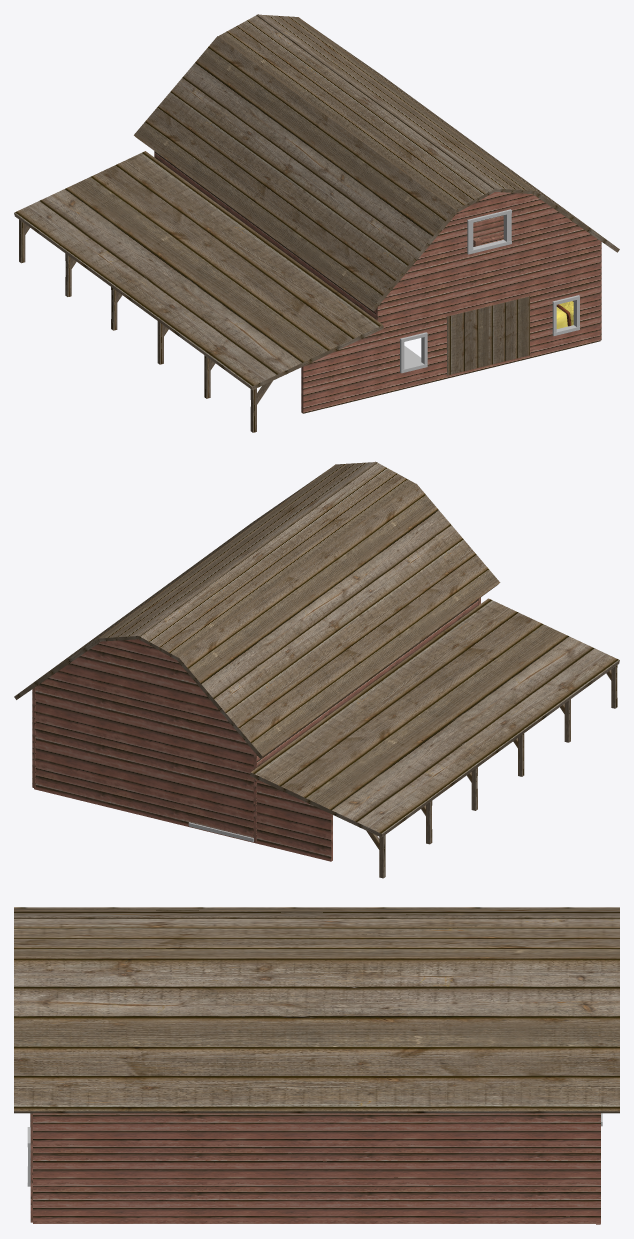
File: barn_scaled.fbx
3 views of the same model, one above another, from view 1: azimuth 30°, elevation 25°; view 2: azimuth 150°, elevation 25°; view 3: azimuth 270°, elevation 25° (orthographic). The views are drawn at different scales.
Visible parts, largest first — view 1: walls, entrance_left, entrance_right; view 2: walls; view 3: walls.
Part boxes in pixels (x1,y1,x2,y2): walls: (14, 14, 619, 432); entrance_left: (447, 306, 488, 375); entrance_right: (488, 296, 529, 365); walls: (14, 461, 619, 878); walls: (14, 907, 619, 1224).
Bounding box in the file's own units: 40.22 × 20.04 × 44.96.
